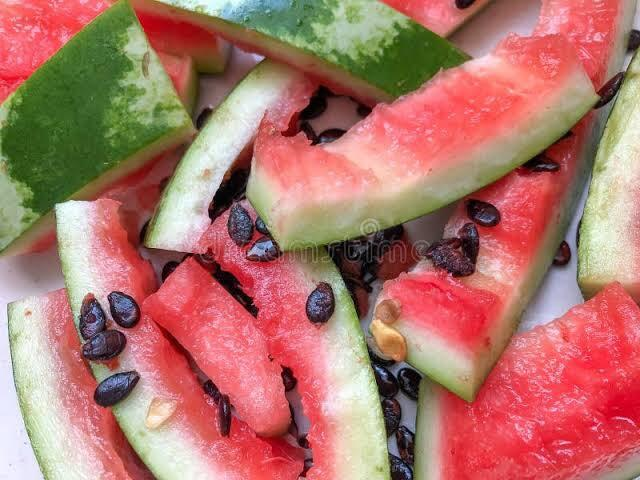organic: (247, 0, 631, 250), (8, 198, 303, 479), (368, 106, 607, 399), (0, 0, 191, 249), (415, 284, 639, 479), (132, 0, 472, 103), (144, 59, 308, 251), (143, 256, 290, 436)
